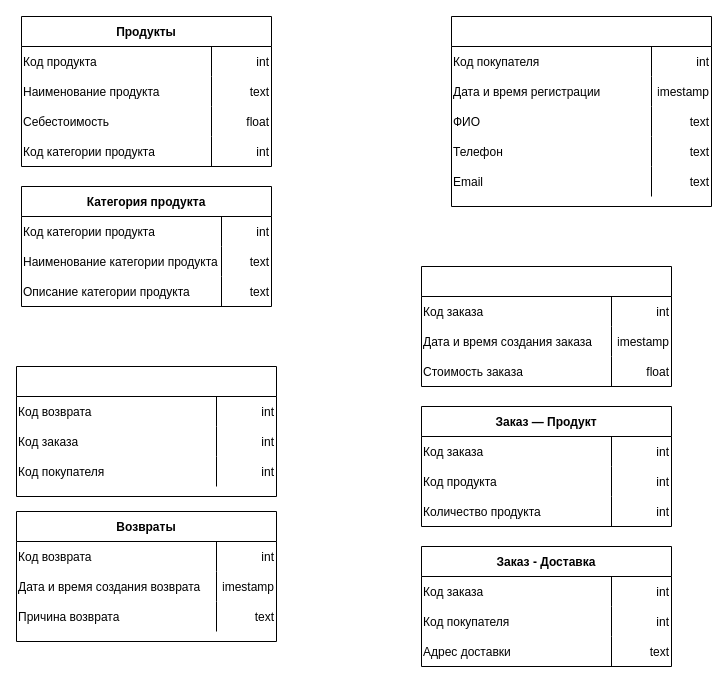
The diagram is 728 pixels wide and 683 high, and some of its shapes have lost their labels. Each missing label, with the box of its shape:
Возврат - Заказ - Покупатель: (16, 366, 276, 496)
Заказы: (420, 266, 672, 386)
Покупатели: (450, 16, 712, 206)
